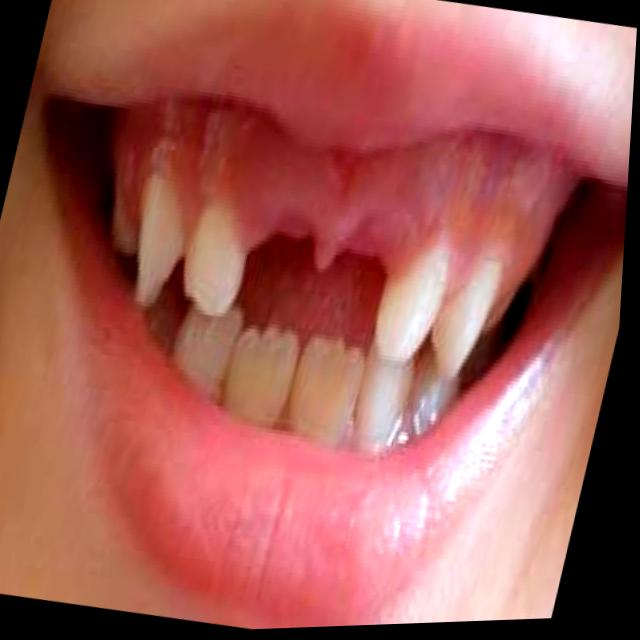hypodontia: (239, 171, 412, 344)
